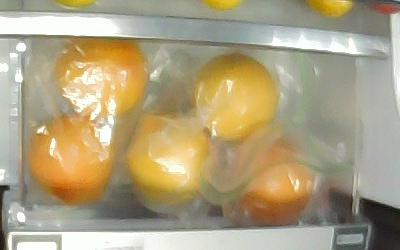grapefruit_vinyl: (126, 113, 216, 207), (29, 115, 117, 205), (191, 53, 279, 142), (55, 39, 149, 118), (241, 140, 313, 225)
